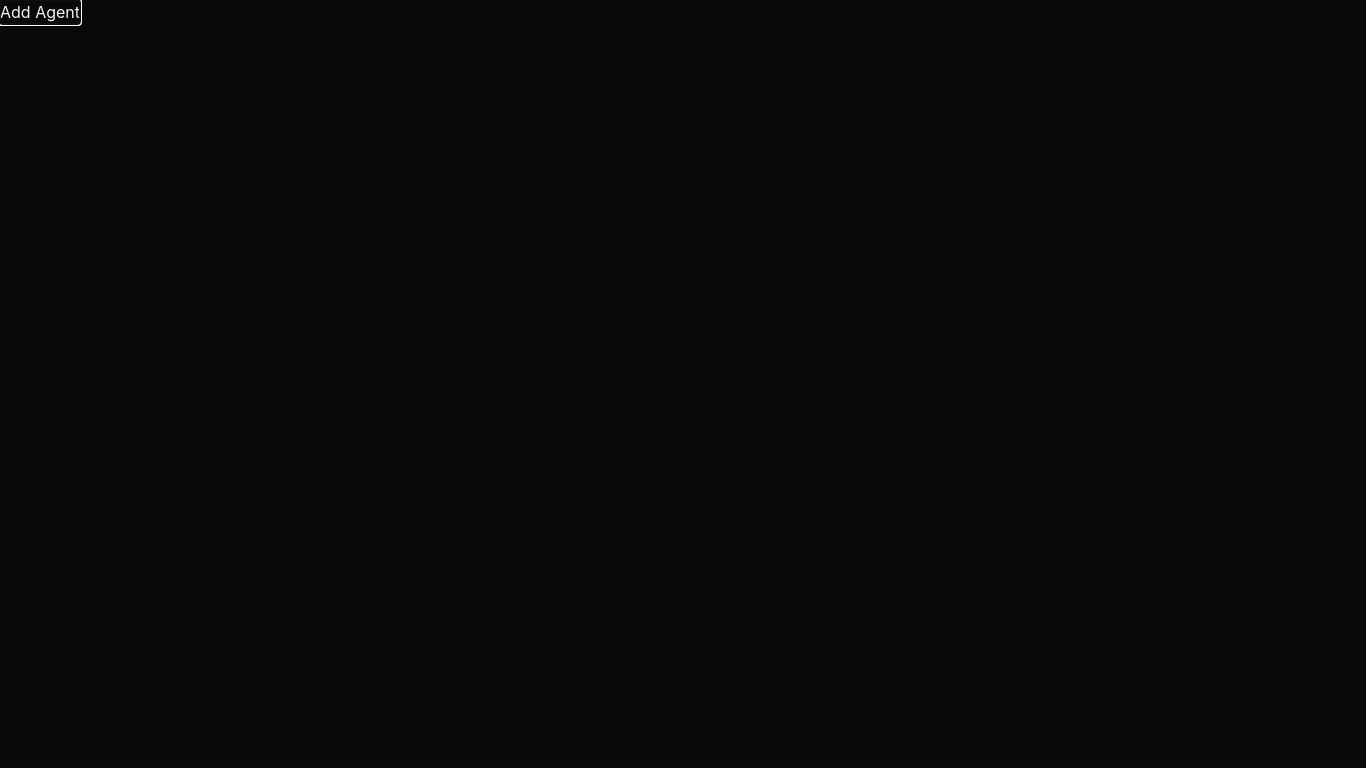
AddAgentModal focus trap › is a modal dialog named by its heading and focuses the name field on open
Click the button with id "opener". click: (40, 12)
box: [0,0,80,24]
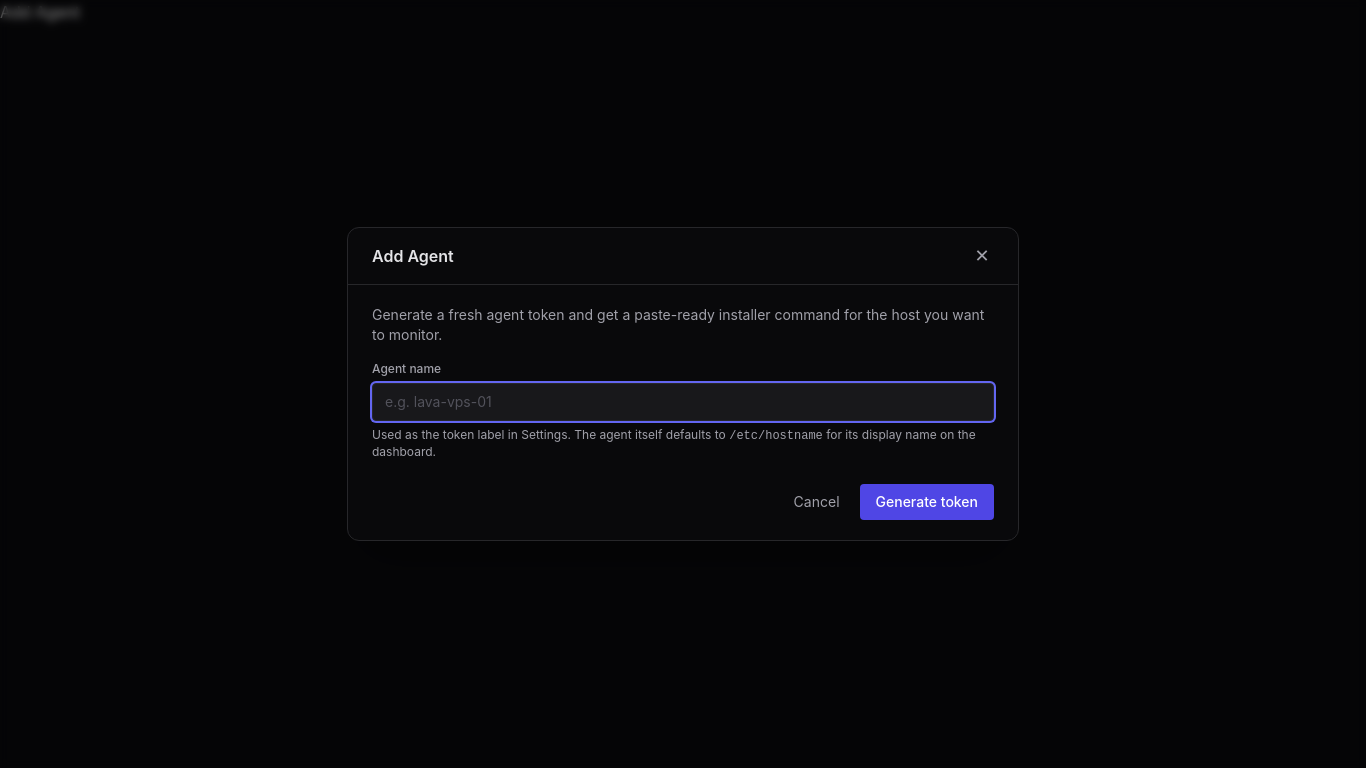
Now the heading "Add Agent" is shown, box [372,244,454,268]
